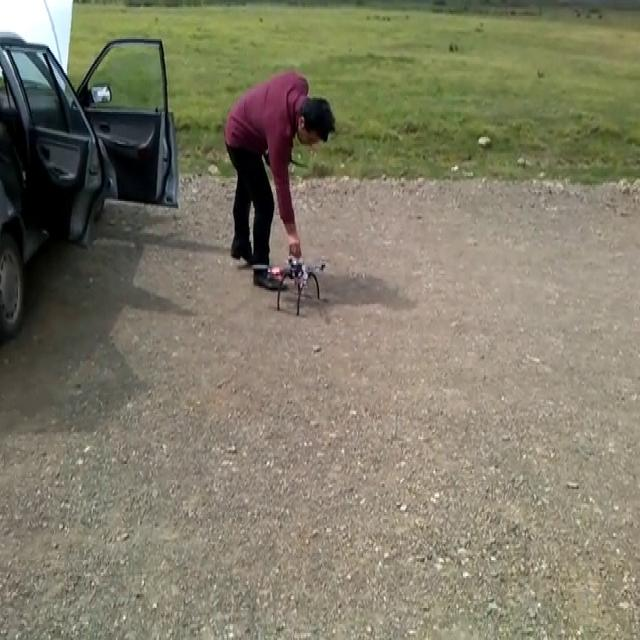drone: (252, 251, 327, 309)
